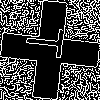T: (25, 25, 74, 60)
